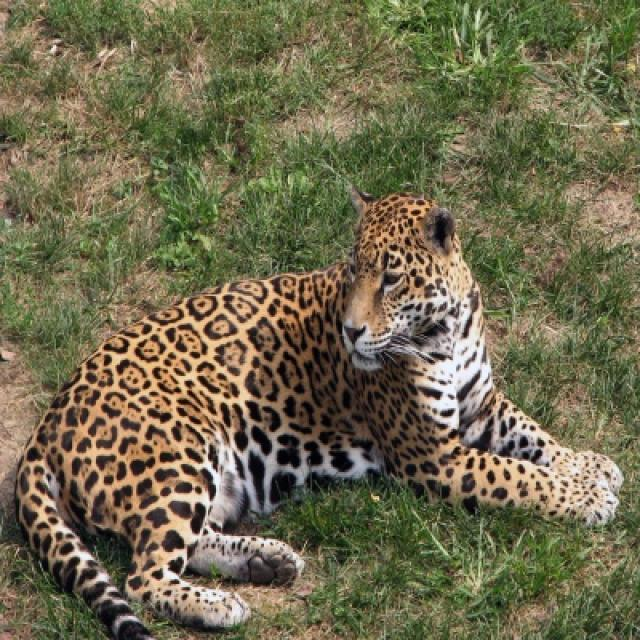Jaguar: (11, 190, 625, 637)
